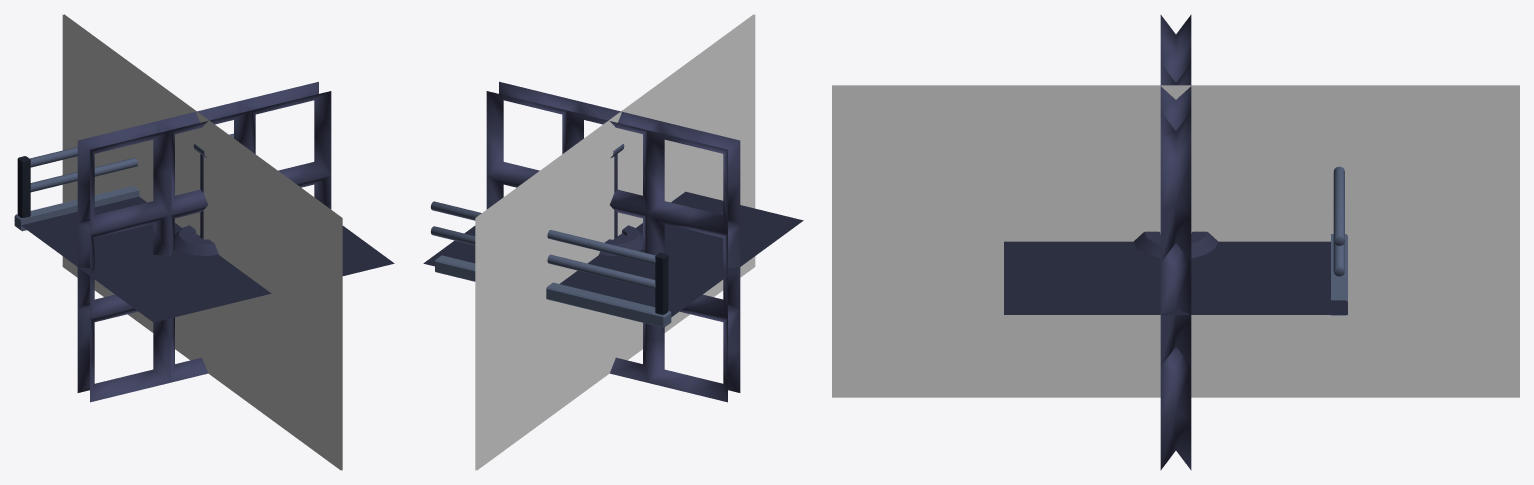
Rendered from Environment.fbx.
3 views of the same model, side by side, from view 1: azimuth 30°, elevation 25°; view 2: azimuth 150°, elevation 25°; view 3: azimuth 270°, elevation 25° (orthographic). The views are drawn at different scales.
Parts seen in each view (by area): view 1: ObservationWindow, SupportGrid, Grate, Fence, MagnetGunHolder, GrateEdge, FenceCorner; view 2: ObservationWindow, SupportGrid, Grate, Fence, GrateEdge, MagnetGunHolder, FenceCorner; view 3: ObservationWindow, Grate, SupportGrid, Fence, MagnetGunHolder, GrateEdge.
Part boxes in pixels (x1=…): ObservationWindow: x1=62, y1=14, x2=342, y2=470; SupportGrid: x1=77, y1=81, x2=331, y2=402; Grate: x1=14, y1=196, x2=394, y2=322; Fence: x1=30, y1=133, x2=233, y2=192; MagnetGunHolder: x1=175, y1=144, x2=218, y2=256; GrateEdge: x1=30, y1=186, x2=139, y2=222; FenceCorner: x1=17, y1=156, x2=30, y2=217; ObservationWindow: x1=475, y1=14, x2=755, y2=470; SupportGrid: x1=486, y1=81, x2=740, y2=402; Grate: x1=423, y1=191, x2=803, y2=322; Fence: x1=430, y1=201, x2=655, y2=289; GrateEdge: x1=435, y1=255, x2=655, y2=324; MagnetGunHolder: x1=599, y1=144, x2=642, y2=256; FenceCorner: x1=655, y1=252, x2=668, y2=314; ObservationWindow: x1=832, y1=85, x2=1519, y2=397; Grate: x1=1004, y1=241, x2=1347, y2=314; SupportGrid: x1=1160, y1=14, x2=1191, y2=470; Fence: x1=1333, y1=166, x2=1344, y2=276; MagnetGunHolder: x1=1133, y1=231, x2=1218, y2=258; GrateEdge: x1=1331, y1=234, x2=1347, y2=315.
Bounding box in the file's own units: 400 × 400 × 800.
